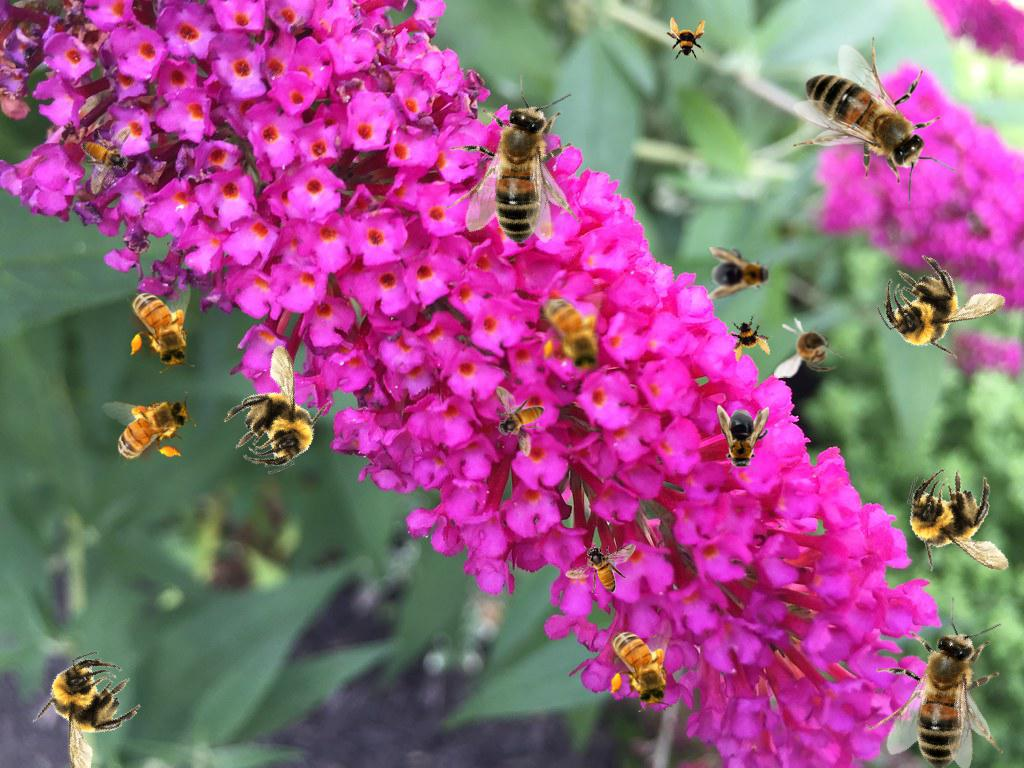Bee: (404, 54, 631, 278), (831, 582, 1024, 768), (793, 36, 955, 203), (864, 229, 1019, 382), (203, 334, 350, 485), (15, 641, 160, 768), (891, 457, 1024, 592), (100, 390, 200, 467), (63, 112, 151, 197), (606, 618, 676, 713), (127, 280, 195, 373), (539, 285, 607, 378), (774, 317, 844, 378), (495, 386, 545, 457), (565, 543, 636, 593), (707, 247, 775, 299), (717, 405, 769, 473), (722, 310, 778, 366), (663, 17, 707, 61)
